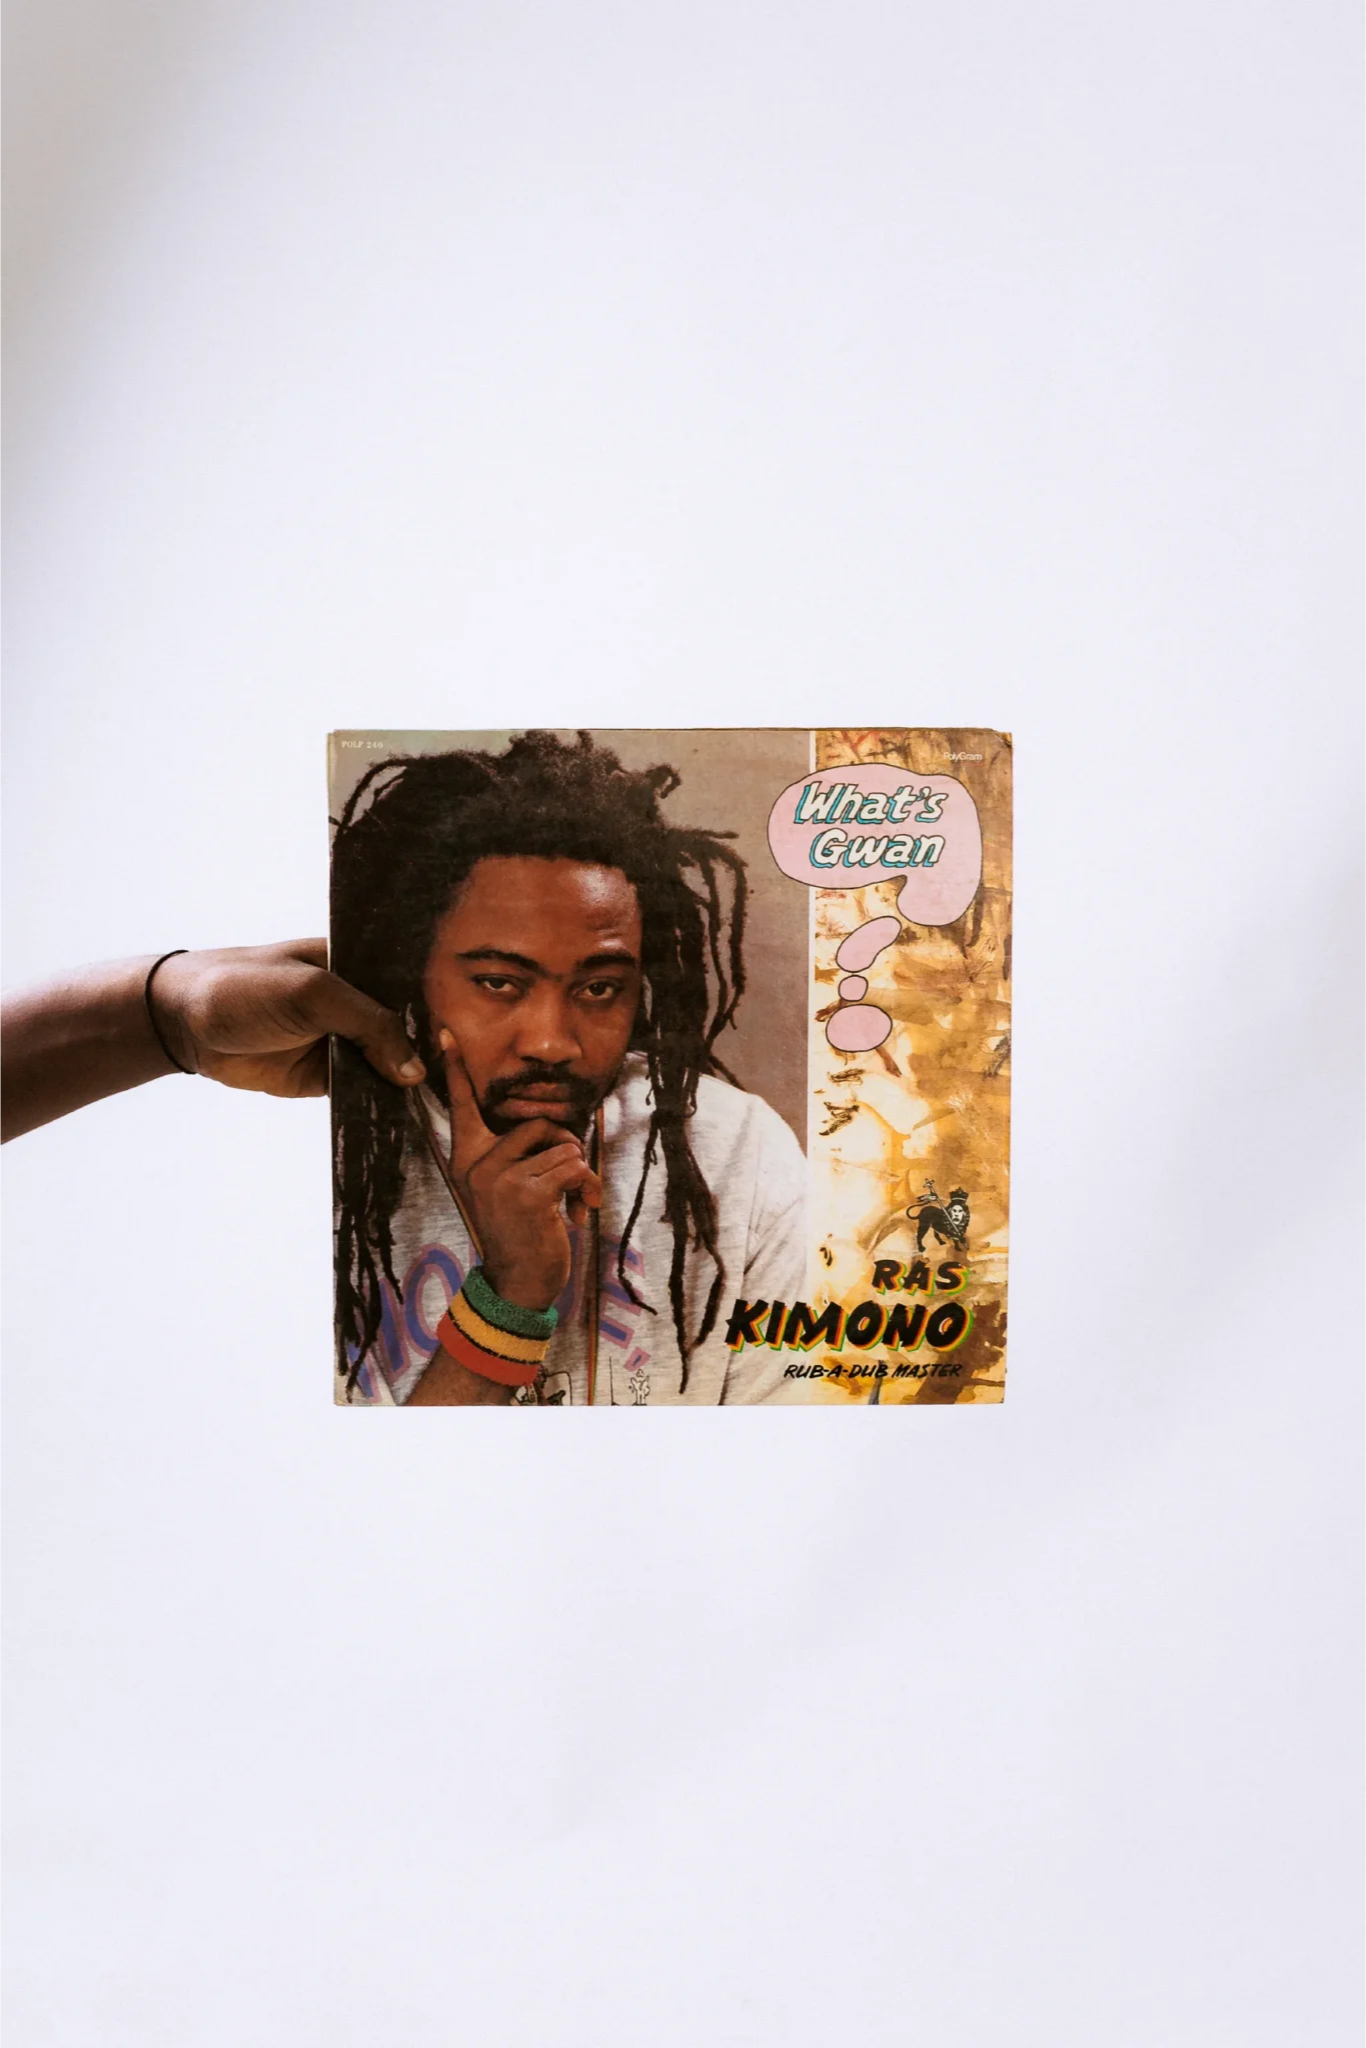ras kimono_what's gwan?: (314, 713, 1021, 1422)
